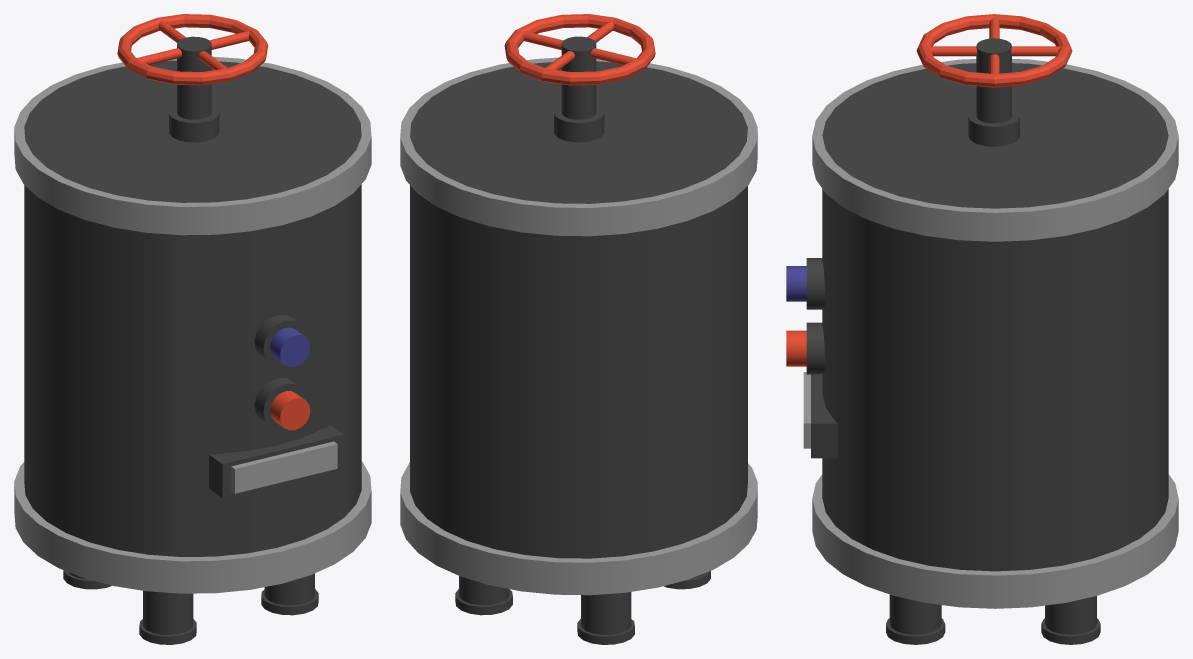
File: maquina2.fbx
3 renders of one model, left to right at view 1: azimuth 30°, elevation 25°; view 2: azimuth 150°, elevation 25°; view 3: azimuth 270°, elevation 25°, orthographic. The views are drawn at different scales.
Parts seen in each view (by area): view 1: Maquina2; view 2: Maquina2; view 3: Maquina2.
Part boxes in pixels (x1,y1,x2,y2): Maquina2: (14, 14, 371, 644); Maquina2: (400, 14, 757, 644); Maquina2: (786, 14, 1178, 644).
Size of the model in its own units: 212 by 356 by 227.
